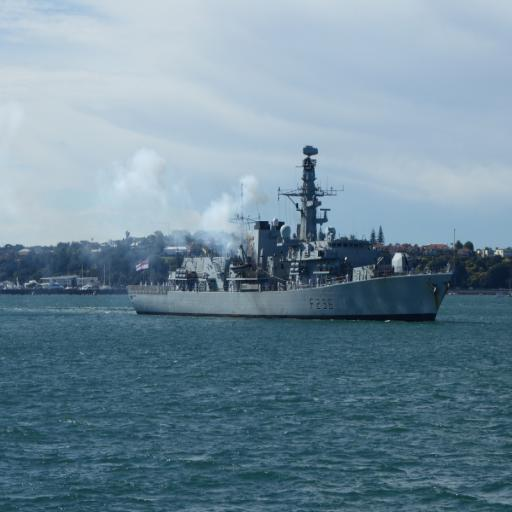Fragata: (130, 141, 456, 329)
